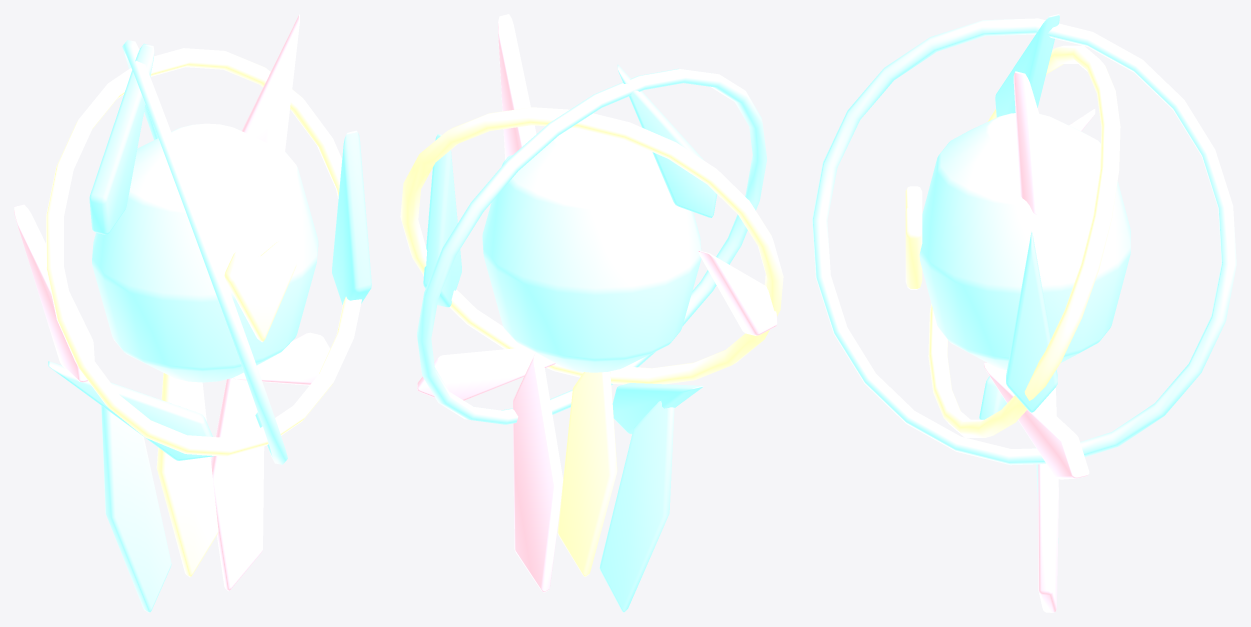
Rendered from aether-wisp-authored-v3.glb.
The picture shows the model from 3 angles, left to right: view 1: azimuth 30°, elevation 25°; view 2: azimuth 150°, elevation 25°; view 3: azimuth 270°, elevation 25°; orthographic projection. The views are drawn at different scales.
Visible parts, largest first — view 1: GB_CORE_WispCore, GB_DETAIL_WispPetal1, GB_DETAIL_WispOrbitA, GB_CORE_WispPetal0, GB_CORE_WispHeart, GB_DETAIL_WispOrbitB; view 2: GB_CORE_WispCore, GB_DETAIL_WispPetal1, GB_DETAIL_WispOrbitA, GB_DETAIL_WispOrbitB, GB_CORE_WispPetal0, GB_CORE_WispHeart; view 3: GB_CORE_WispCore, GB_DETAIL_WispOrbitB, GB_DETAIL_WispOrbitA, GB_DETAIL_WispPetal1, GB_CORE_WispPetal0, GB_CORE_WispHeart.
Part boxes in pixels (bbox=[...]): GB_CORE_WispCore: bbox=[92, 123, 318, 612]; GB_DETAIL_WispPetal1: bbox=[14, 14, 329, 591]; GB_DETAIL_WispOrbitA: bbox=[46, 48, 361, 456]; GB_CORE_WispPetal0: bbox=[48, 43, 371, 460]; GB_CORE_WispHeart: bbox=[156, 241, 296, 577]; GB_DETAIL_WispOrbitB: bbox=[122, 40, 287, 464]; GB_CORE_WispCore: bbox=[482, 128, 701, 612]; GB_DETAIL_WispPetal1: bbox=[417, 14, 777, 592]; GB_DETAIL_WispOrbitA: bbox=[400, 107, 783, 384]; GB_DETAIL_WispOrbitB: bbox=[417, 68, 766, 424]; GB_CORE_WispPetal0: bbox=[423, 65, 717, 434]; GB_CORE_WispHeart: bbox=[557, 371, 617, 576]; GB_CORE_WispCore: bbox=[919, 113, 1130, 543]; GB_DETAIL_WispOrbitB: bbox=[812, 18, 1236, 465]; GB_DETAIL_WispOrbitA: bbox=[928, 45, 1120, 437]; GB_DETAIL_WispPetal1: bbox=[983, 71, 1095, 612]; GB_CORE_WispPetal0: bbox=[979, 14, 1059, 419]; GB_CORE_WispHeart: bbox=[905, 186, 922, 289].
Bounding box in the file's own units: 1.08 × 1.71 × 1.15.
